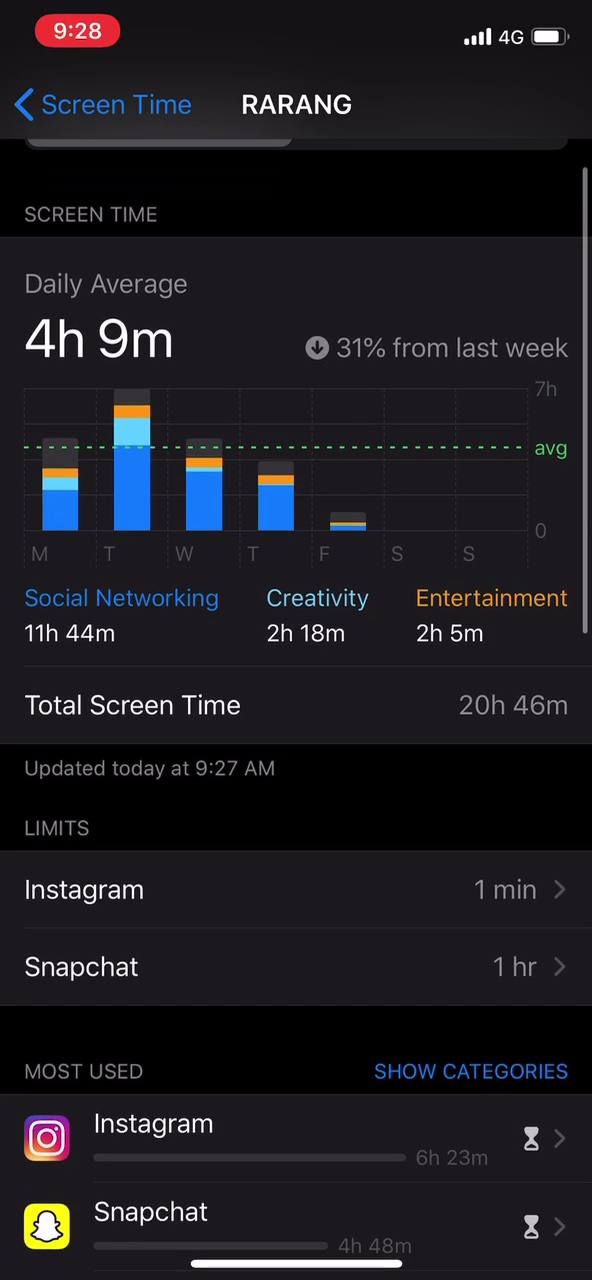use_over: (20, 577, 578, 742)
